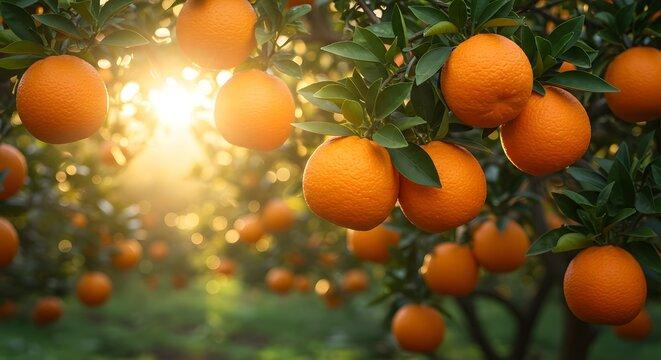orange: (298, 131, 404, 240), (12, 52, 115, 149), (437, 27, 531, 130), (502, 82, 595, 182), (404, 139, 496, 230), (565, 239, 650, 327), (211, 68, 300, 152), (173, 0, 264, 68), (602, 39, 661, 137)
